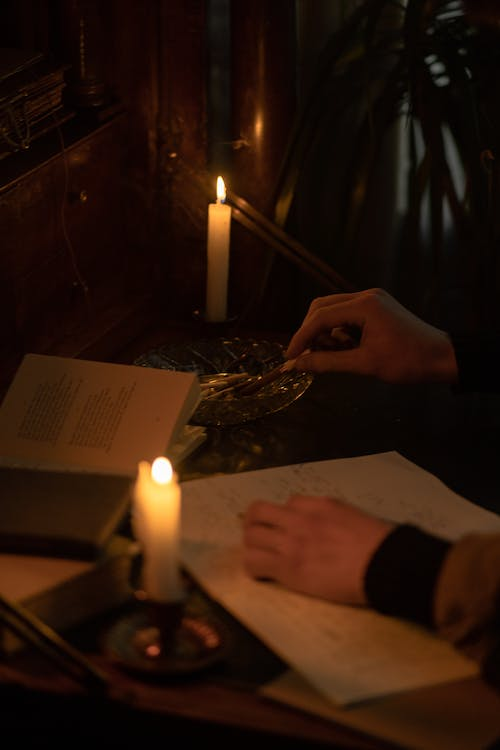cigarette: (233, 344, 316, 401)
